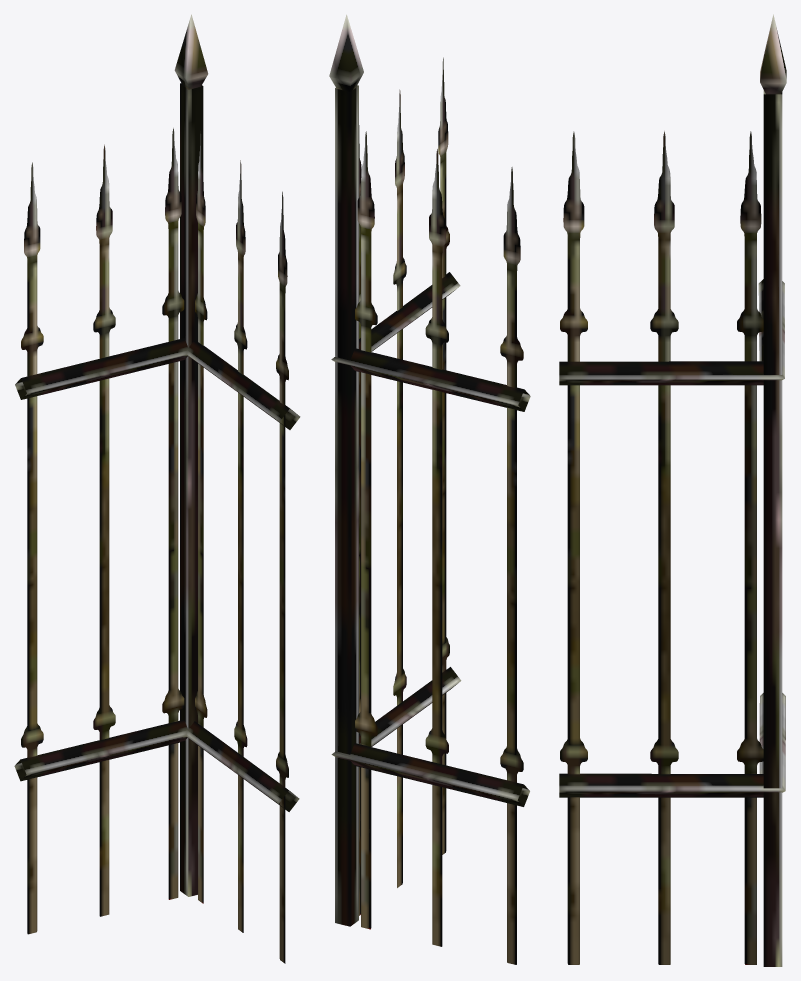
3 renders of one model, left to right at view 1: azimuth 30°, elevation 25°; view 2: azimuth 150°, elevation 25°; view 3: azimuth 270°, elevation 25°, orthographic. The views are drawn at different scales.
Parts seen in each view (by area): view 1: SteelWall01; view 2: SteelWall01; view 3: SteelWall01.
Boxes of the visible parts, bbox=[...] form: SteelWall01: bbox=[14, 14, 300, 963]; SteelWall01: bbox=[329, 14, 530, 964]; SteelWall01: bbox=[559, 14, 786, 966].
Bounding box in the file's own units: 53.43 × 247 × 53.55.
